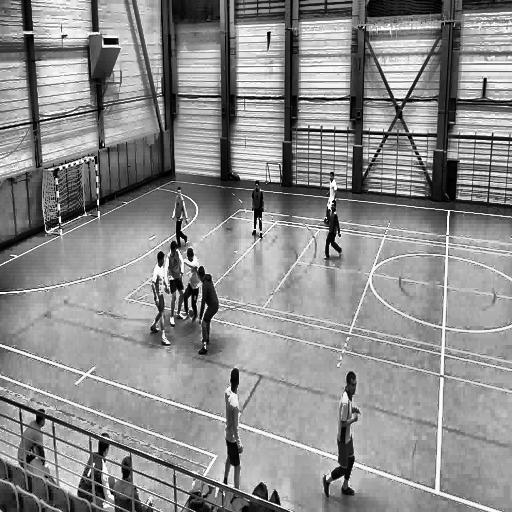ball: (188, 307, 195, 319)
player: (324, 365, 360, 500), (223, 368, 243, 488), (198, 265, 220, 360), (150, 252, 172, 347), (165, 242, 185, 326), (182, 246, 200, 326), (323, 198, 342, 262), (171, 186, 189, 247), (251, 179, 266, 241), (325, 170, 338, 224)
